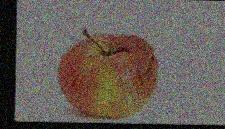rotten apple: (51, 27, 167, 118)
